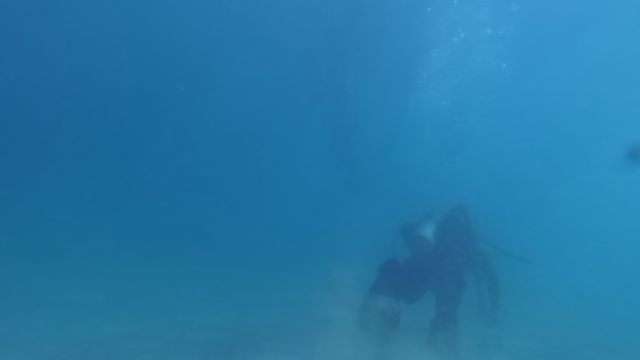Diver: (354, 198, 505, 351)
